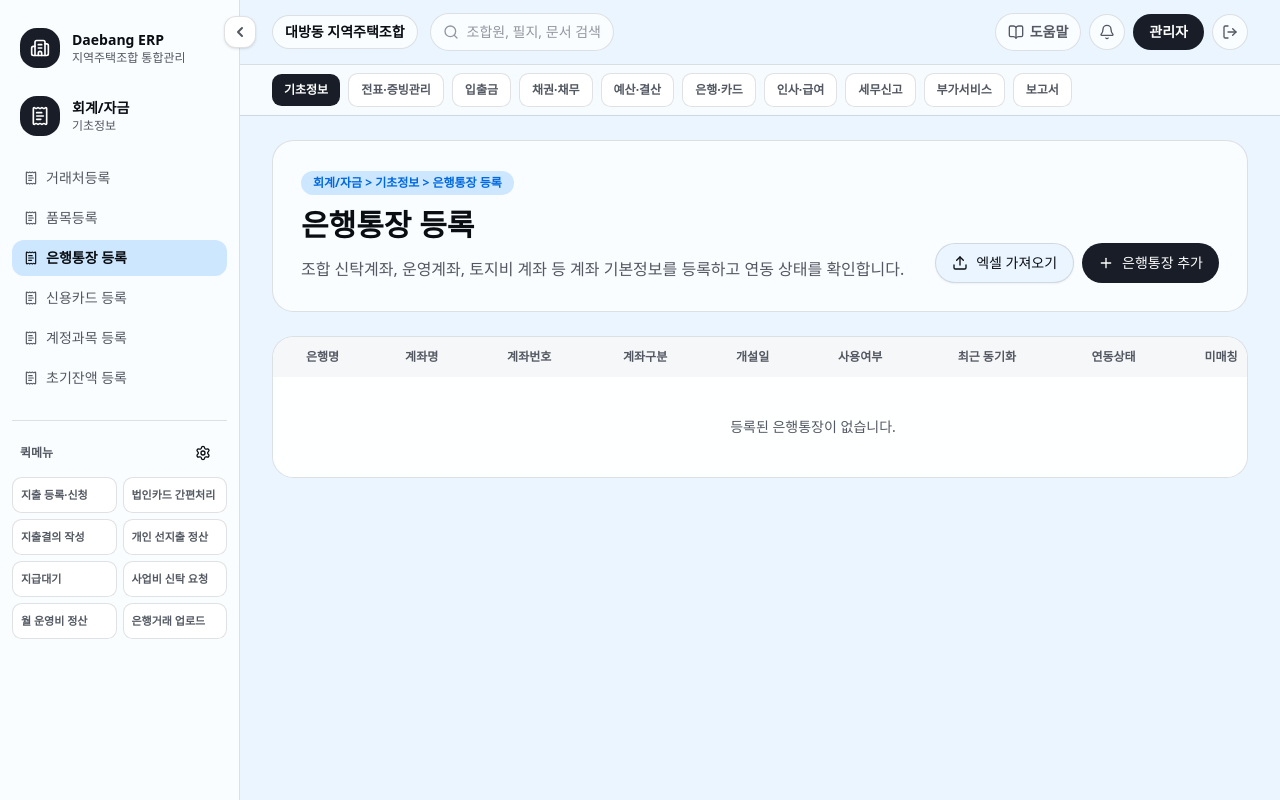
Scenario: BusinessPartnerPage › uses the server bank account creator when Supabase persistence is configured
The width and height of the screenshot is (1280, 800).
Click the button "은행통장 추가" at x=1151, y=263, box [1082,243,1219,283]
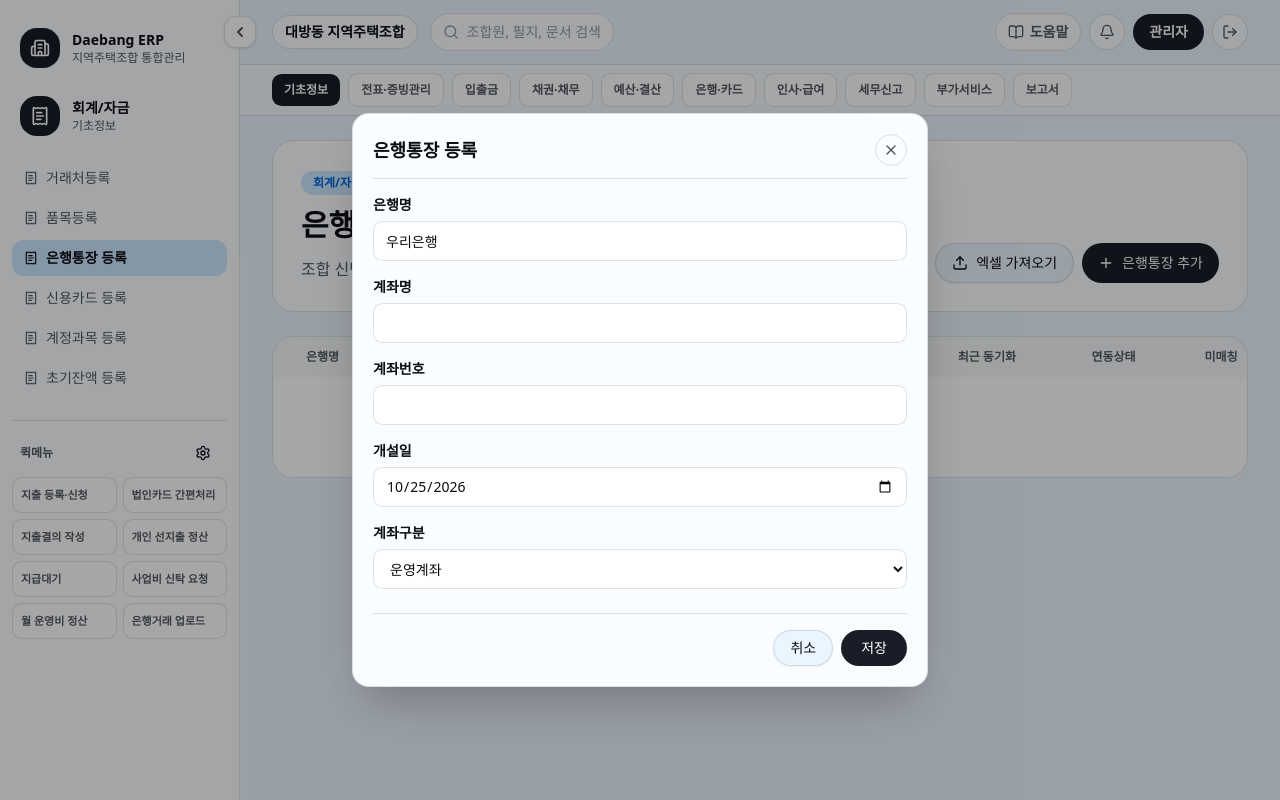
Type "2026-06-07" into the date field labelled "개설일" at x=640, y=487, box [373,467,907,507]
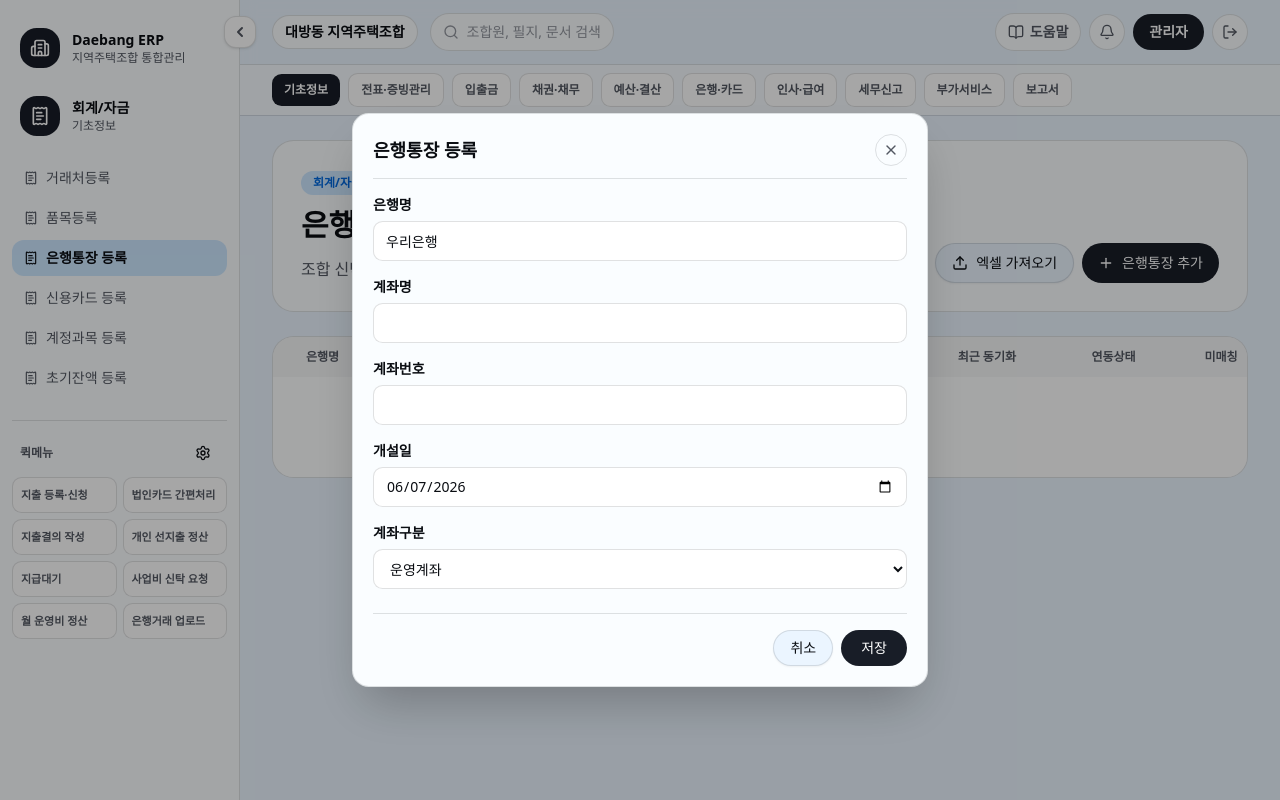
Type "Supabase 운영계좌" into the field labelled "계좌명" at x=640, y=323, box [373,303,907,343]
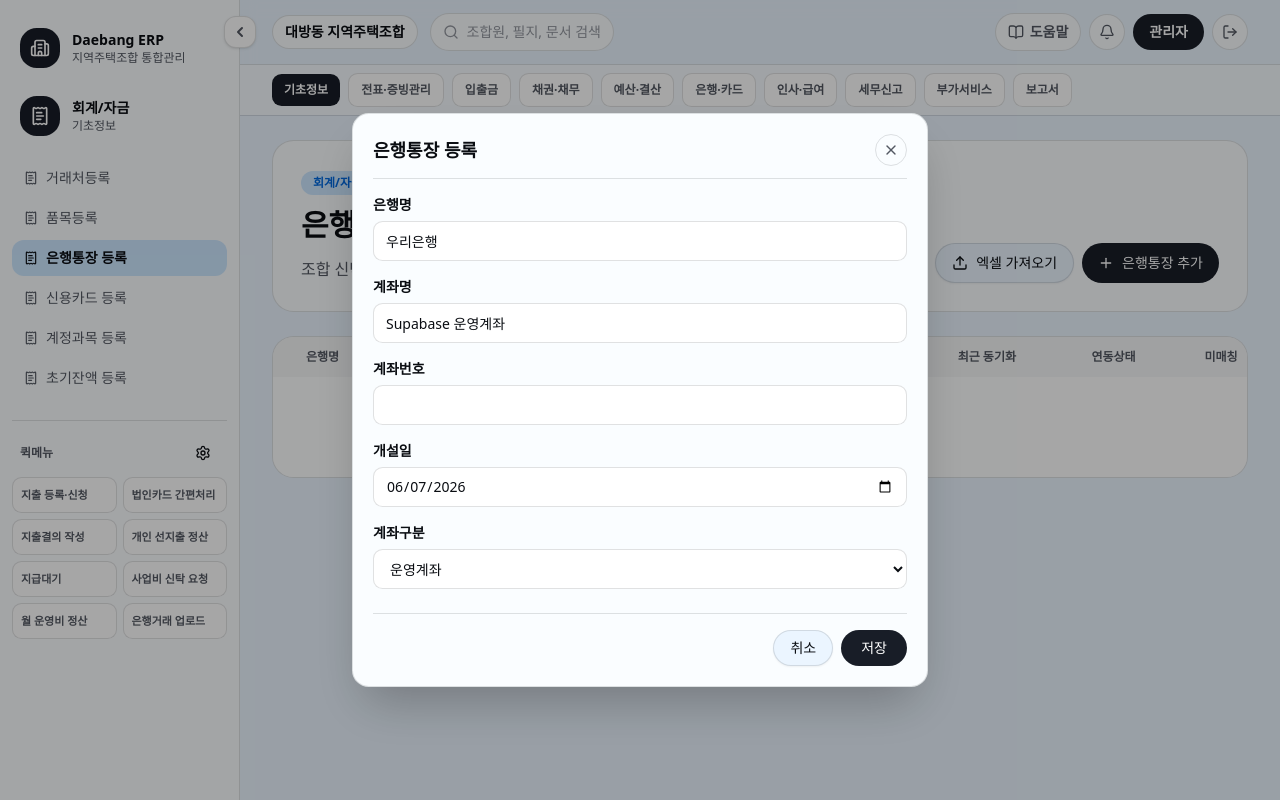
Type "222-333-444444" into the field labelled "계좌번호" at x=640, y=405, box [373,385,907,425]
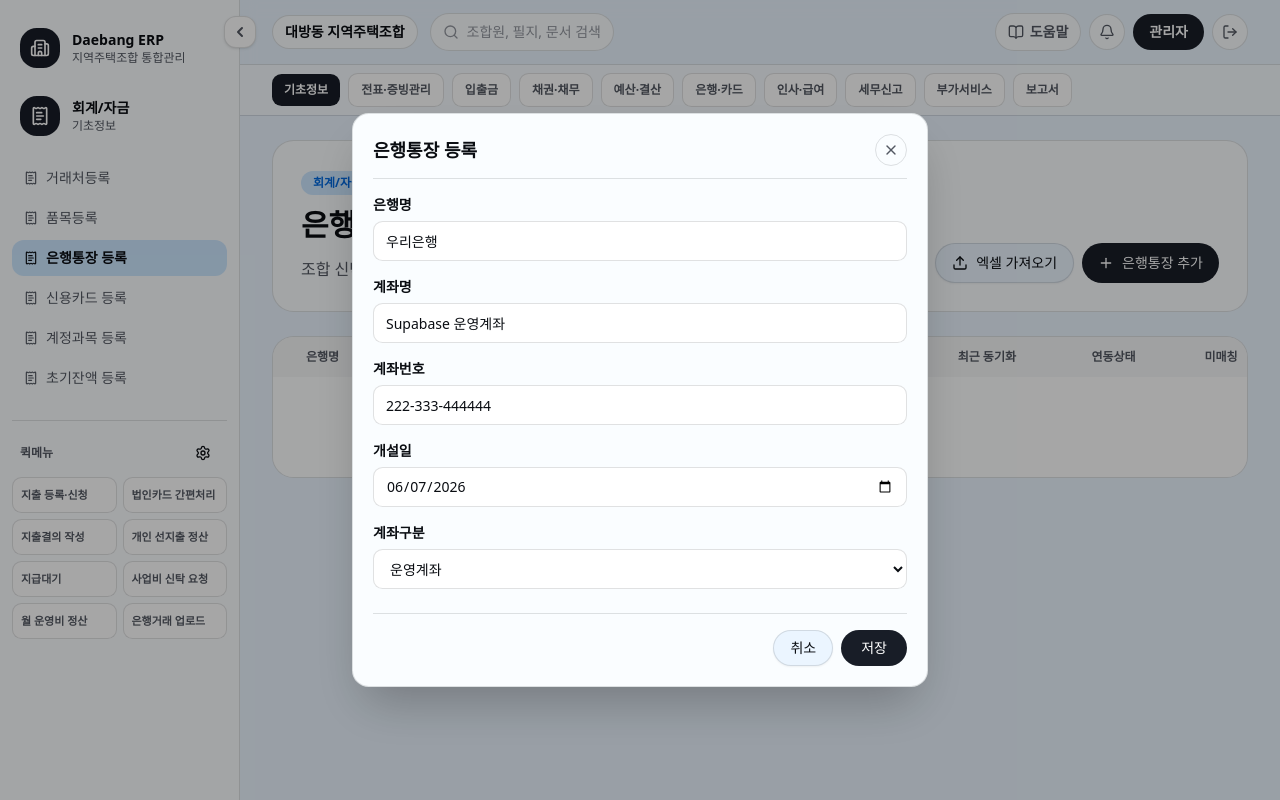
Click the button "저장" at x=874, y=648, box [841,630,907,666]
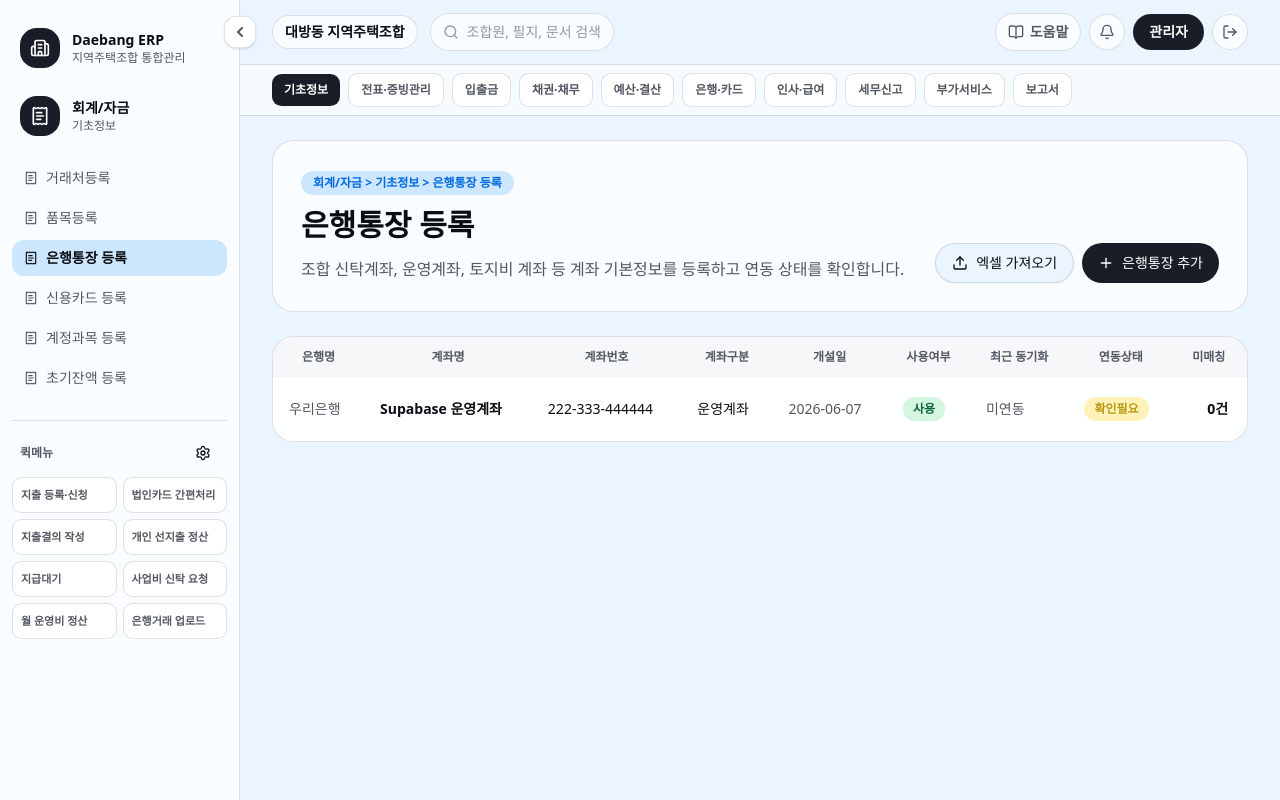
Result: the text "Supabase 운영계좌" is shown at [364,377,532,441]
Result: the text "222-333-444444" is shown at [532,377,681,441]
Result: the text "2026-06-07" is shown at [772,377,887,441]
